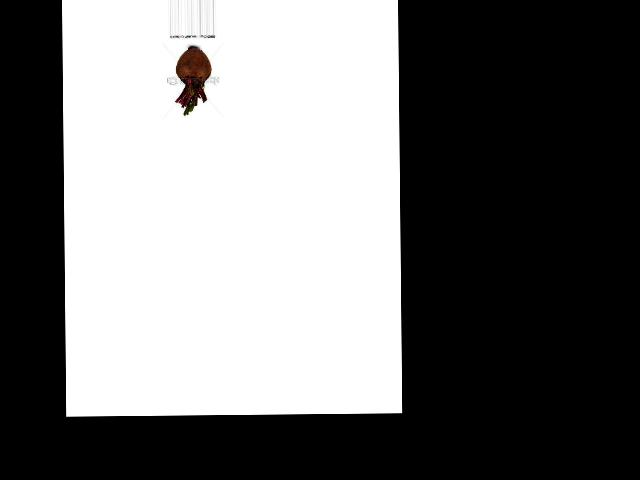beet: (175, 46, 212, 115)
